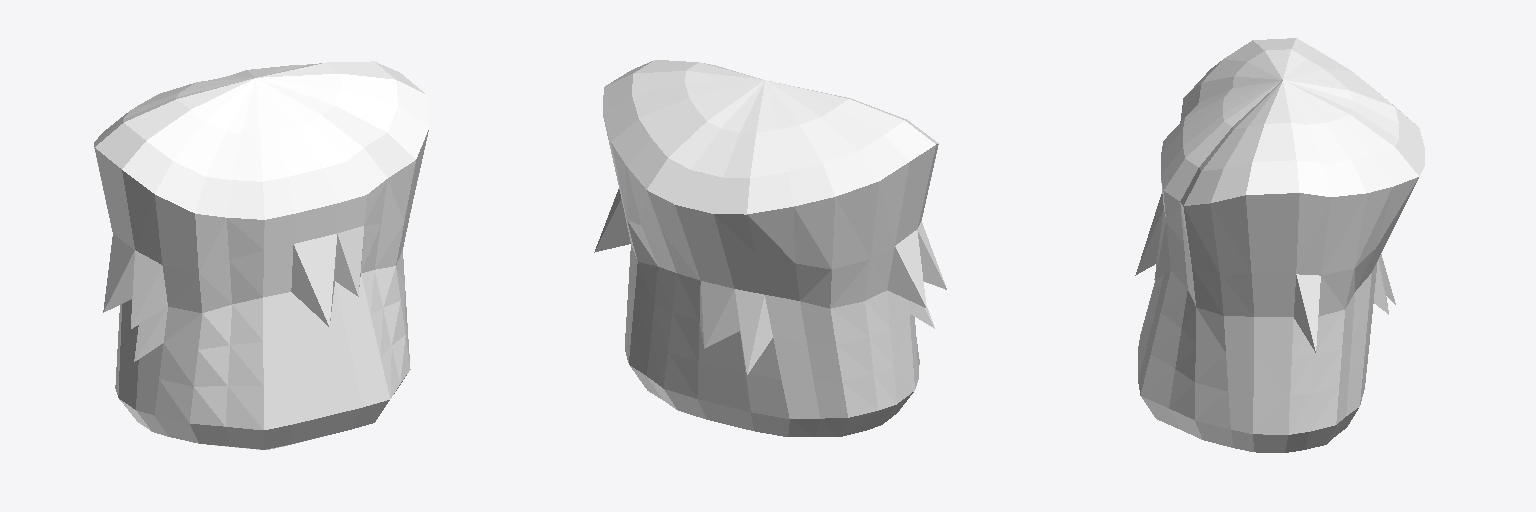
The model's file is MidTorso.obj.
The picture shows the model from 3 angles: view 1: azimuth 30°, elevation 25°; view 2: azimuth 150°, elevation 25°; view 3: azimuth 270°, elevation 25°; orthographic projection.
Parts seen in each view (by area): view 1: Middletorso1; view 2: Middletorso1; view 3: Middletorso1.
Part boxes in pixels (x1,y1,x2,y2): Middletorso1: (94, 61, 429, 449); Middletorso1: (594, 60, 946, 436); Middletorso1: (1135, 38, 1424, 452).
Size of the model in its own units: 4.22 by 4.57 by 3.39.